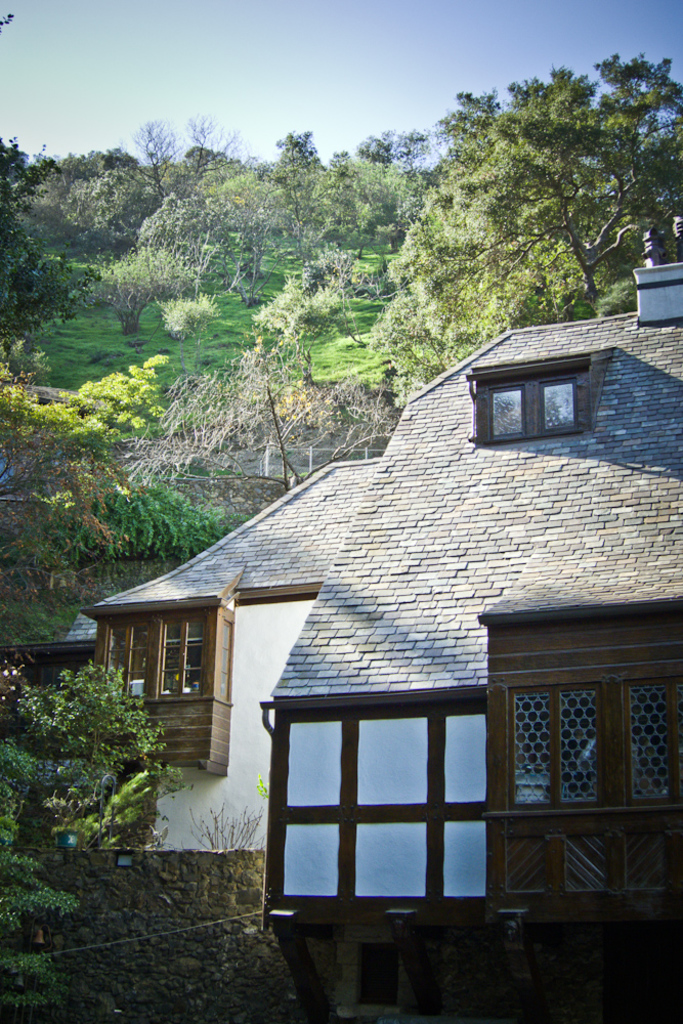Tree: (397, 49, 681, 315), (339, 152, 547, 387), (95, 338, 392, 496), (0, 342, 121, 637), (0, 113, 70, 351), (131, 187, 252, 301), (237, 116, 346, 240), (344, 118, 439, 253), (134, 99, 245, 205), (251, 269, 334, 402), (240, 180, 313, 322), (58, 136, 148, 251), (63, 266, 192, 336), (299, 240, 388, 338)
